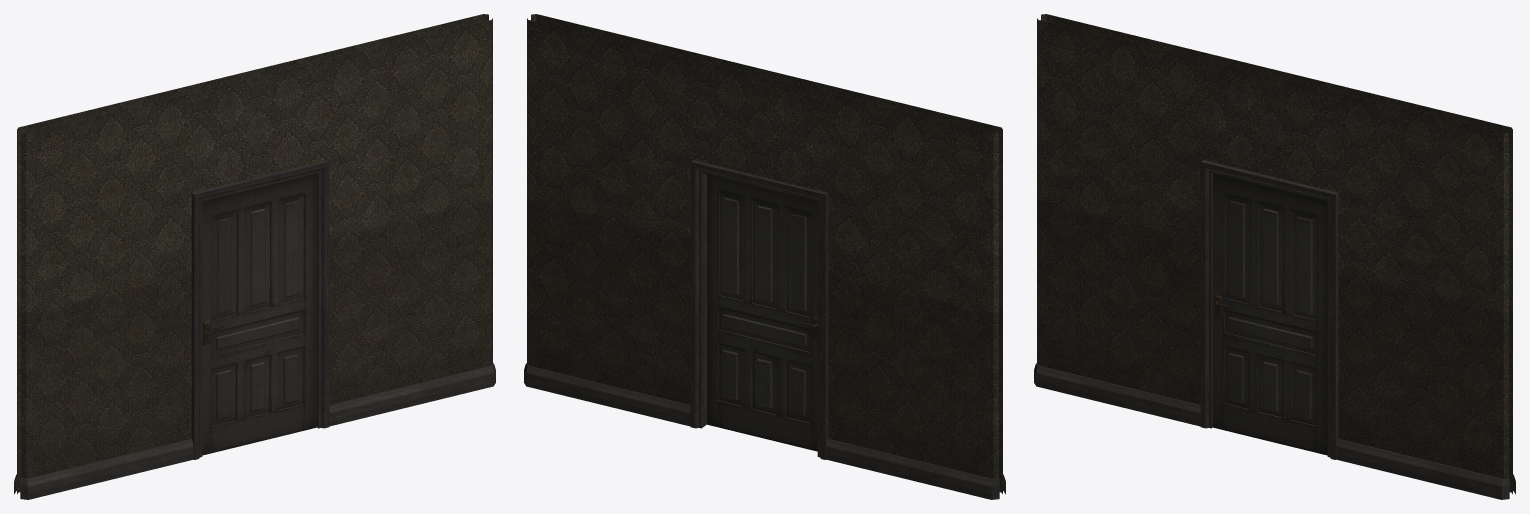
Rendered from doorway_2_1.fbx.
3 renders of one model, left to right at view 1: azimuth 30°, elevation 25°; view 2: azimuth 150°, elevation 25°; view 3: azimuth 330°, elevation 25°, orthographic.
Visible parts, largest first — view 1: doorway_2_1, door_1; view 2: doorway_2_1, door_1; view 3: doorway_2_1, door_1.
Part boxes in pixels (x1,y1,x2,y2): doorway_2_1: (14, 14, 495, 499); door_1: (202, 173, 317, 455); doorway_2_1: (524, 14, 1005, 499); door_1: (707, 174, 817, 451); doorway_2_1: (1034, 14, 1515, 499); door_1: (1212, 173, 1327, 455).
Bounding box in the file's own units: 4.09 × 0.219 × 3.
